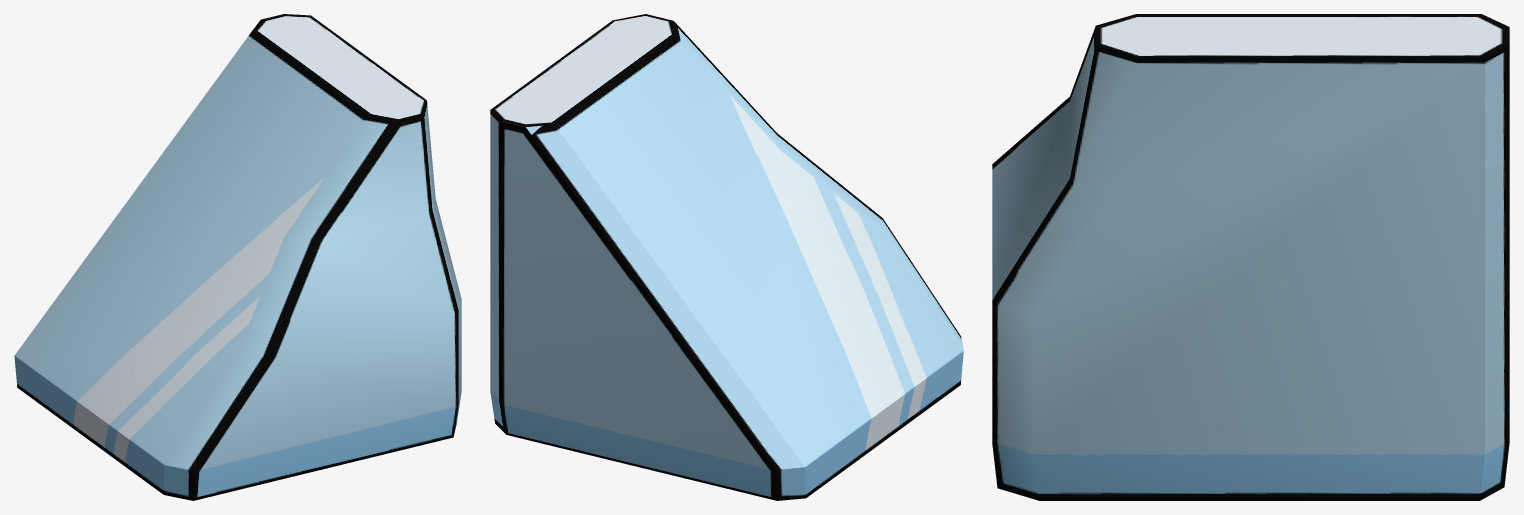
The model's file is BlockSlope 2.FBX.
3 views of the same model, side by side, from view 1: azimuth 30°, elevation 25°; view 2: azimuth 150°, elevation 25°; view 3: azimuth 270°, elevation 25° (orthographic). The views are drawn at different scales.
Visible parts, largest first — view 1: Box001; view 2: Box001; view 3: Box001.
Part boxes in pixels (x1,y1,x2,y2): Box001: (14, 14, 461, 500); Box001: (490, 14, 963, 500); Box001: (992, 14, 1509, 500).
Bounding box in the file's own units: 99.38 × 95 × 100.
Materials: 1 (1 with a texture image).
